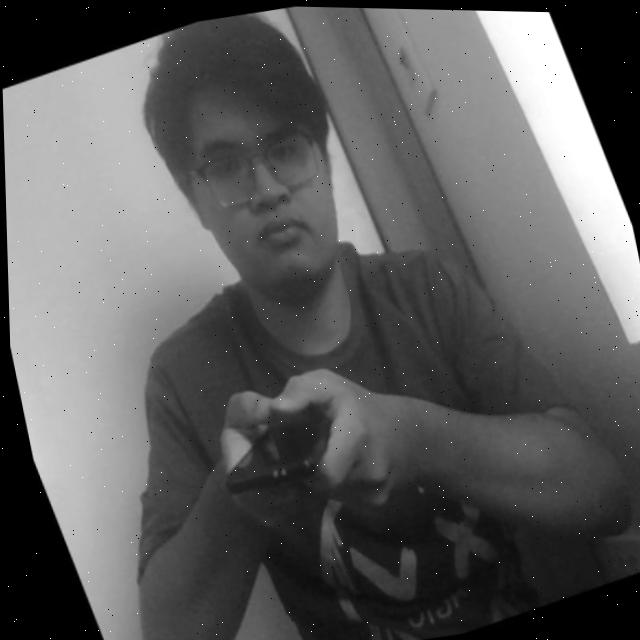phone: (180, 358, 372, 541)
